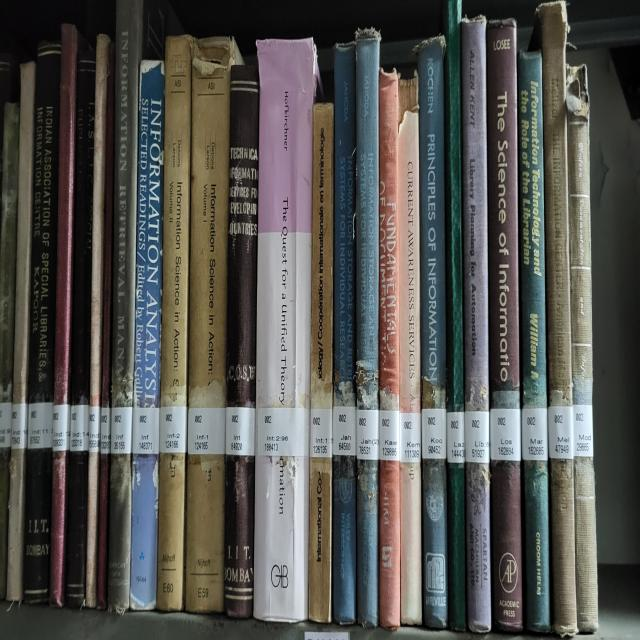Book: (254, 38, 316, 622), (185, 38, 240, 611), (531, 0, 578, 636), (486, 19, 522, 630), (24, 43, 61, 603), (158, 35, 192, 611), (224, 65, 259, 617), (130, 60, 165, 609), (566, 65, 599, 630), (518, 51, 550, 630), (461, 16, 491, 630), (49, 24, 79, 606), (65, 51, 96, 609), (419, 38, 448, 628), (6, 62, 35, 601), (355, 30, 380, 628), (85, 35, 110, 609), (332, 43, 356, 625), (111, 0, 144, 406), (309, 103, 334, 622), (399, 73, 422, 625), (379, 70, 400, 628), (0, 103, 20, 598), (98, 43, 115, 609), (444, 0, 464, 411), (110, 457, 130, 609), (104, 327, 106, 330)
Label: (258, 409, 309, 457), (188, 409, 226, 455), (490, 409, 521, 460), (225, 406, 255, 455), (548, 406, 574, 460), (521, 409, 548, 460), (159, 406, 188, 452), (132, 406, 159, 455), (465, 411, 490, 463), (421, 409, 446, 460), (28, 400, 54, 449), (332, 406, 356, 457), (572, 403, 594, 457), (356, 409, 379, 460), (400, 411, 421, 463), (379, 409, 400, 460), (310, 409, 332, 457), (111, 406, 132, 455), (446, 411, 465, 463), (70, 403, 89, 452), (52, 403, 70, 452), (11, 403, 28, 449), (89, 406, 101, 452), (100, 406, 111, 455)
